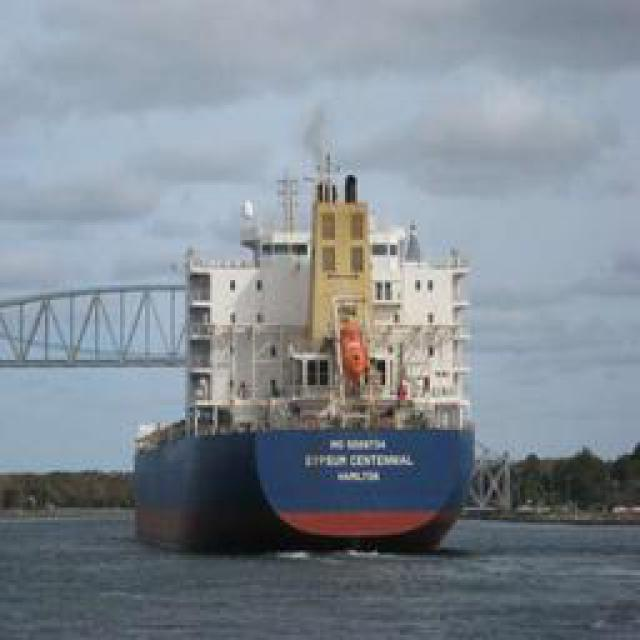Ship: (136, 141, 481, 559)
